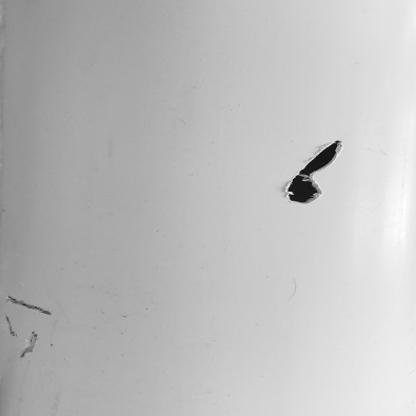fengxi: (1, 294, 51, 315), (21, 333, 41, 361), (4, 313, 21, 342)
kongdong: (288, 137, 344, 207)
